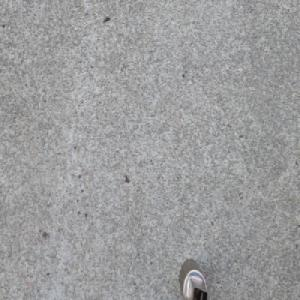MetalPart: (176, 254, 209, 300)
